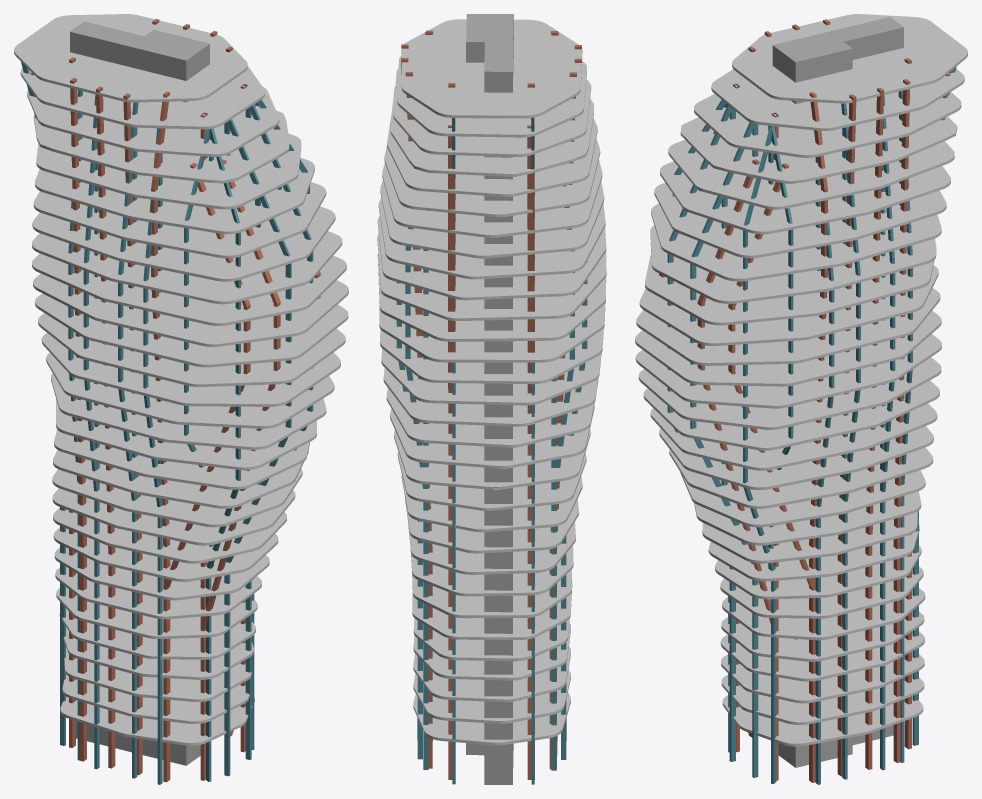
File: Estructura a glb.glb
3 views of the same model, side by side, from view 1: azimuth 30°, elevation 25°; view 2: azimuth 150°, elevation 25°; view 3: azimuth 270°, elevation 25° (orthographic).
Visible parts, largest first — view 1: Object.032, Object, Object.064, Object.063; view 2: Object.032, Object.063, Object, Object.064; view 3: Object.032, Object, Object.064, Object.063.
Part boxes in pixels (<box>): Object.032: <box>14,14,348,745</box>; Object: <box>21,62,313,784</box>; Object.064: <box>30,19,320,782</box>; Object.063: <box>70,21,209,765</box>; Object.032: <box>377,19,606,745</box>; Object.063: <box>466,14,513,784</box>; Object: <box>396,117,587,784</box>; Object.064: <box>401,30,581,779</box>; Object.032: <box>635,14,967,746</box>; Object: <box>667,66,956,784</box>; Object.064: <box>659,19,950,782</box>; Object.063: <box>772,17,903,767</box>.
Size of the model in its own units: 37.17 by 103 by 44.23.
